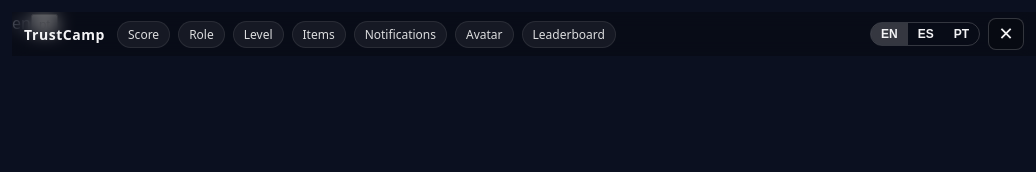
Scenario: Hud › exposes a useHudLang hook for HUD-connected panels
Expected: the text with test id "probe-lang" reads "en", [12,12,31,34]
Click the button with test id "hud-lang-pt": click(961, 34) [944,23,979,45]
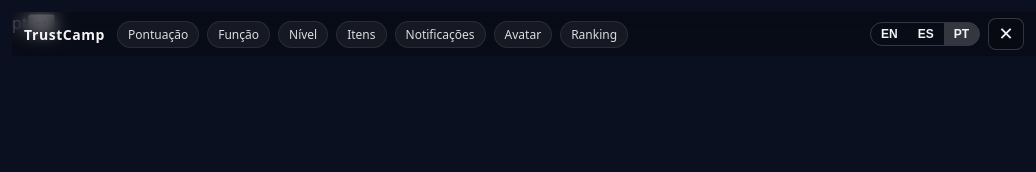
Expected: the text with test id "probe-lang" reads "pt", [12,12,28,34]
